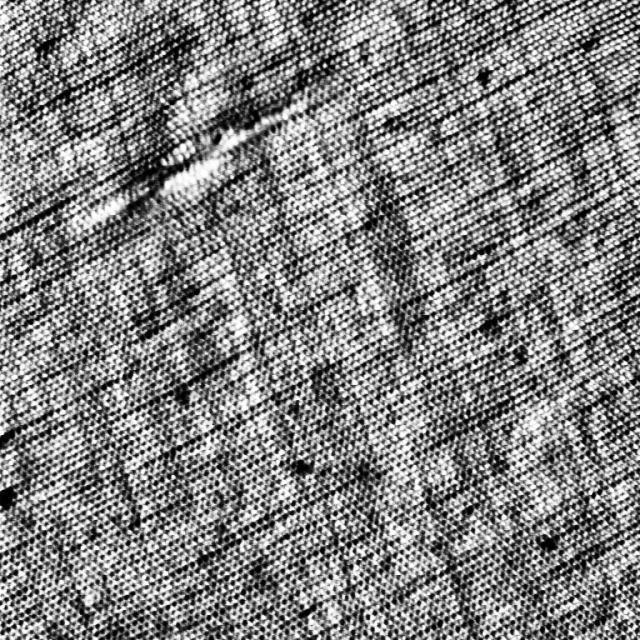gray stitch: (51, 73, 345, 234)
